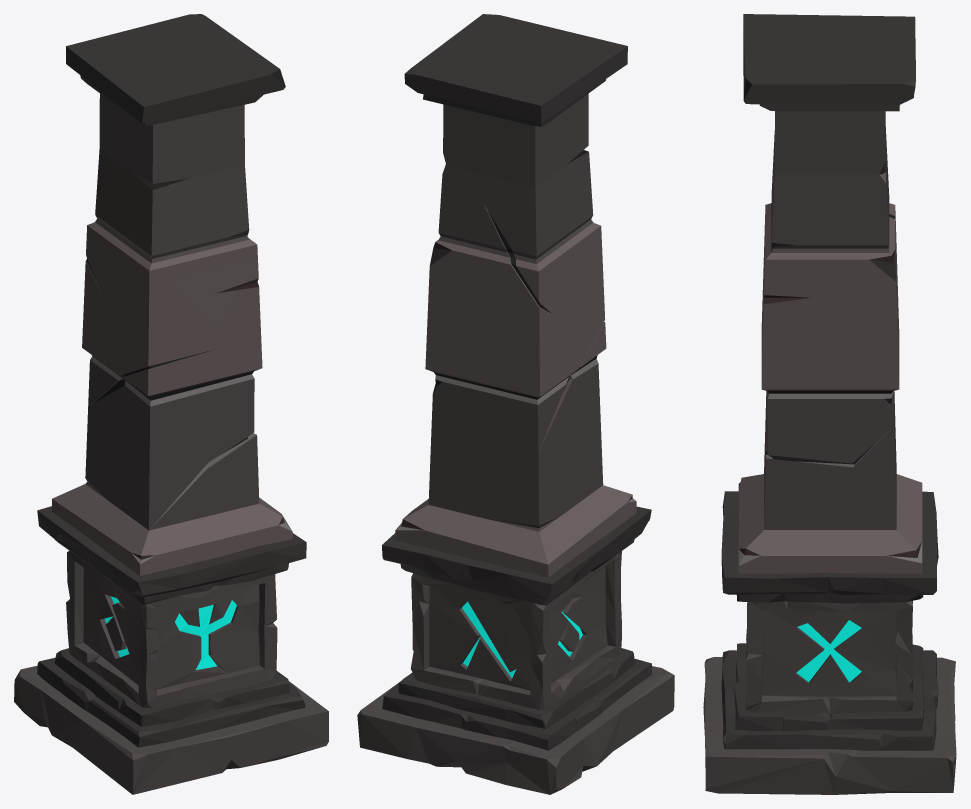
Rendered from Rising_Pillar_Temple.glb.
3 views of the same model, side by side, from view 1: azimuth 30°, elevation 25°; view 2: azimuth 150°, elevation 25°; view 3: azimuth 270°, elevation 25° (orthographic). The views are drawn at different scales.
Parts seen in each view (by area): view 1: Pillar; view 2: Pillar; view 3: Pillar.
Boxes of the visible parts, left/top/right/bottom form: Pillar: left=14, top=14, right=328, bottom=794; Pillar: left=357, top=14, right=674, bottom=794; Pillar: left=703, top=14, right=956, bottom=794.
Size of what is drawn, in the model's own units: 1.97 by 6.3 by 2.07.
3 materials, 3 textured.
